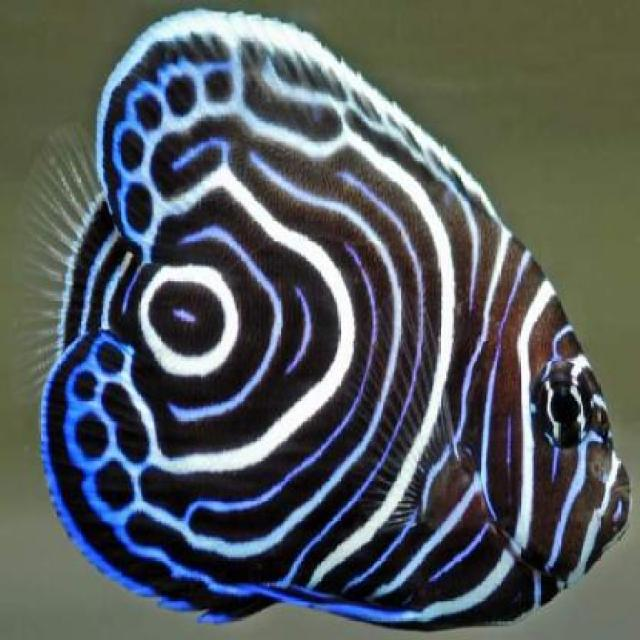AngelFish: (31, 6, 633, 632)
